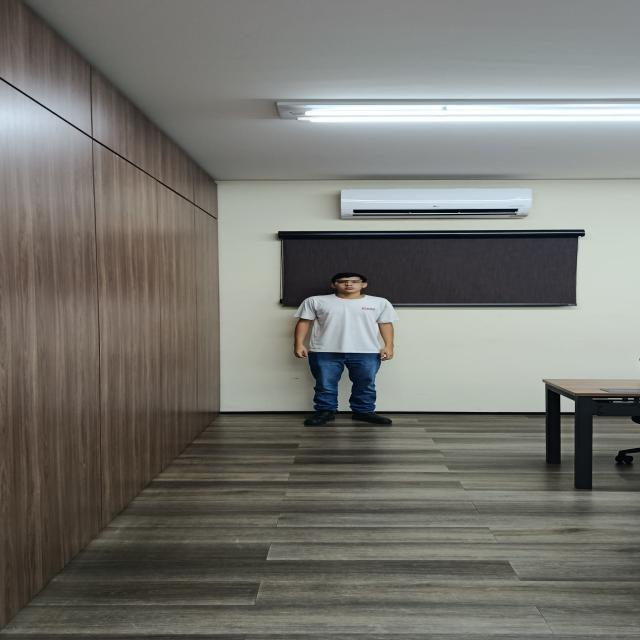oculos-epi: (335, 281, 364, 285)
